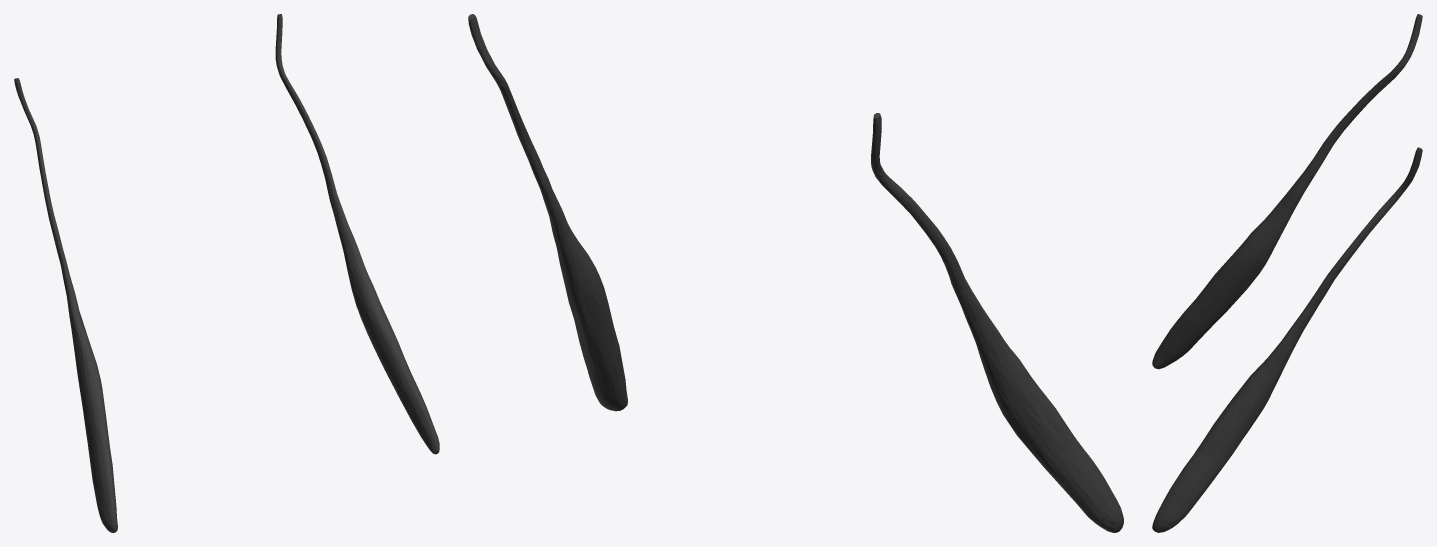
Rendered from m_flexor_digitorum_medialis.glb.
The picture shows the model from 3 angles, left to right: view 1: azimuth 30°, elevation 25°; view 2: azimuth 150°, elevation 25°; view 3: azimuth 270°, elevation 25°; orthographic projection. The views are drawn at different scales.
Visible parts, largest first — view 1: m_flexor_digitorum_medialis; view 2: m_flexor_digitorum_medialis; view 3: m_flexor_digitorum_medialis.
Boxes of the visible parts, bbox=[...] form: m_flexor_digitorum_medialis: bbox=[14, 14, 439, 532]; m_flexor_digitorum_medialis: bbox=[468, 14, 1123, 532]; m_flexor_digitorum_medialis: bbox=[1152, 14, 1422, 532].
Bounding box in the file's own units: 0.052 × 0.0528 × 0.0351.
Materials: 1 (1 with a texture image).
